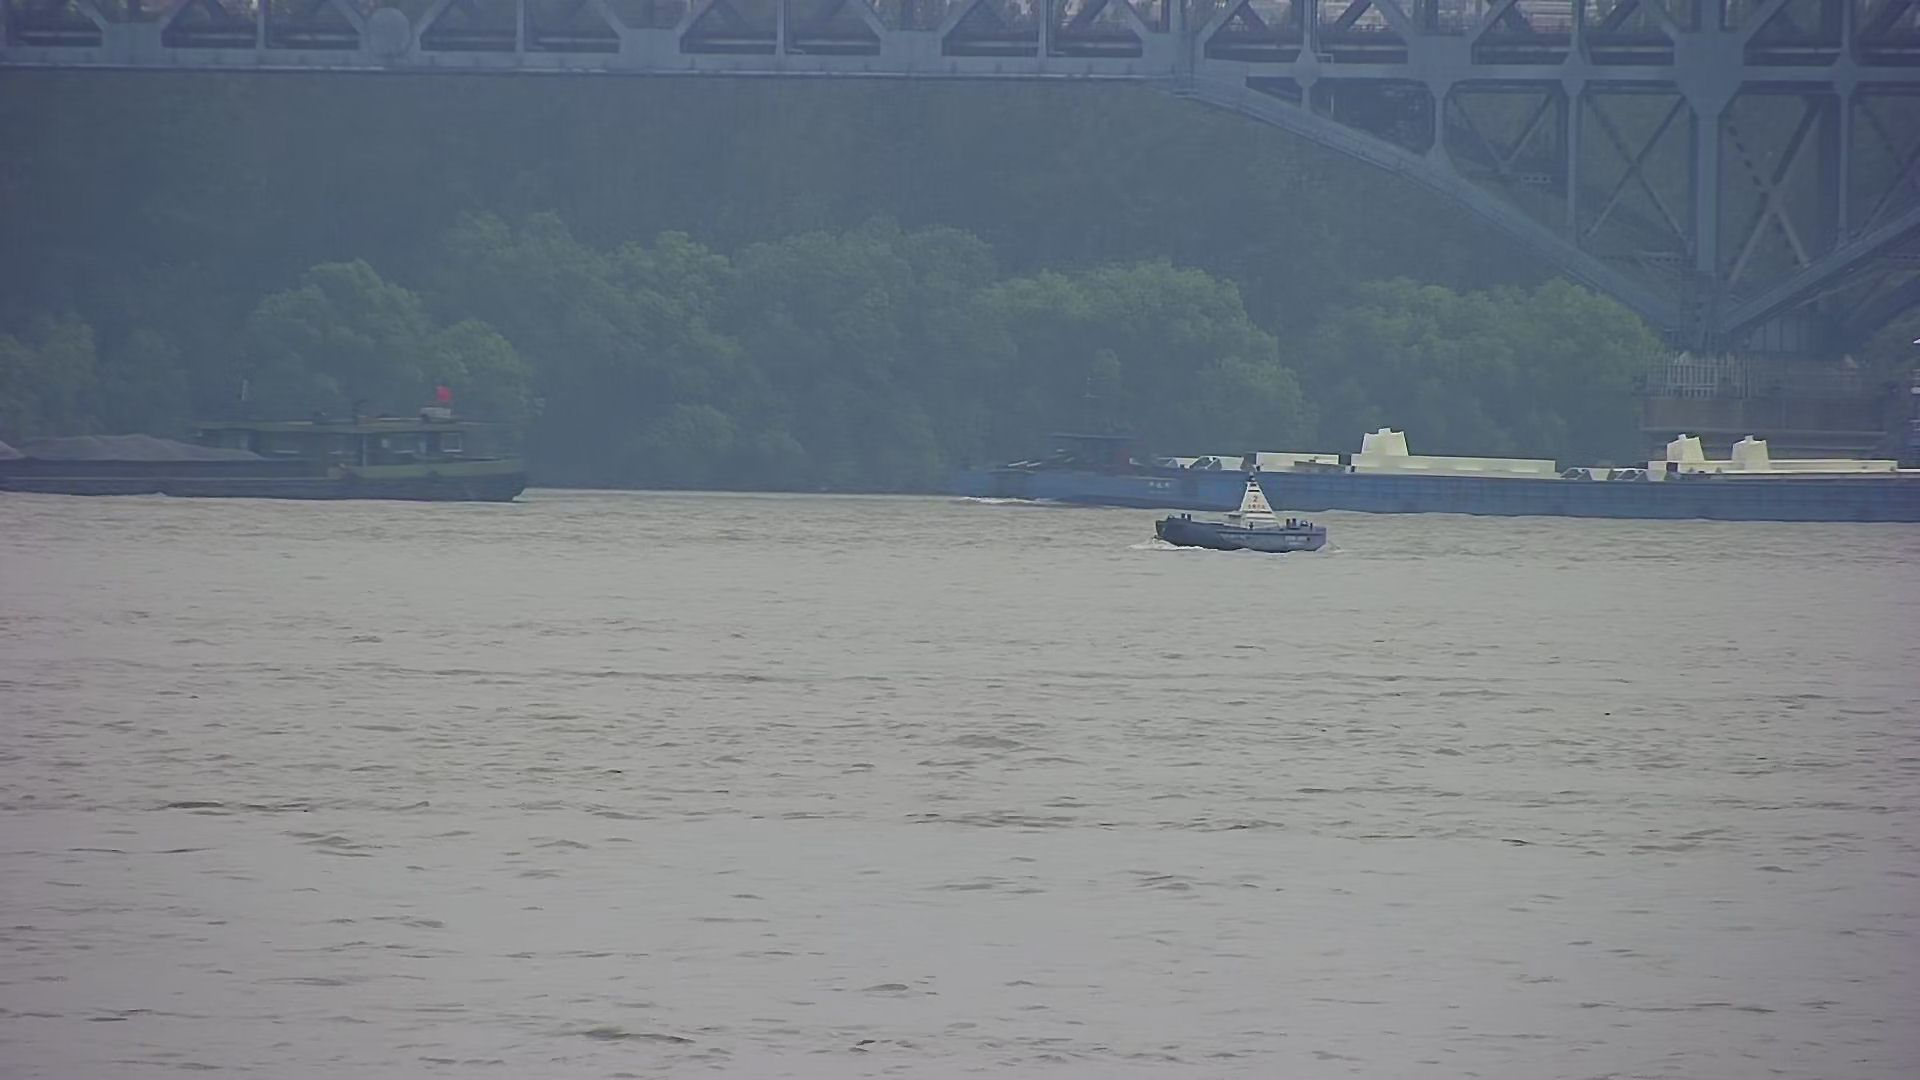boat: (1116, 459, 1338, 559)
bridge: (1, 1, 1917, 469)
ship: (948, 409, 1920, 545), (1, 365, 554, 509)
